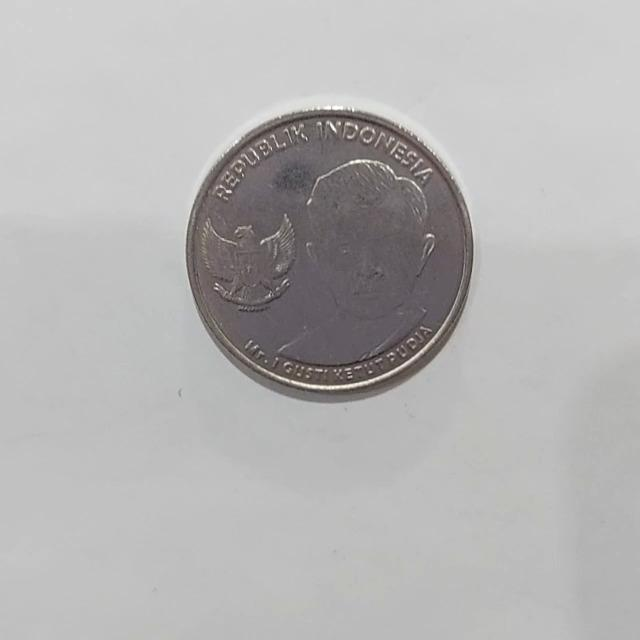Rp100: (183, 99, 475, 401)
